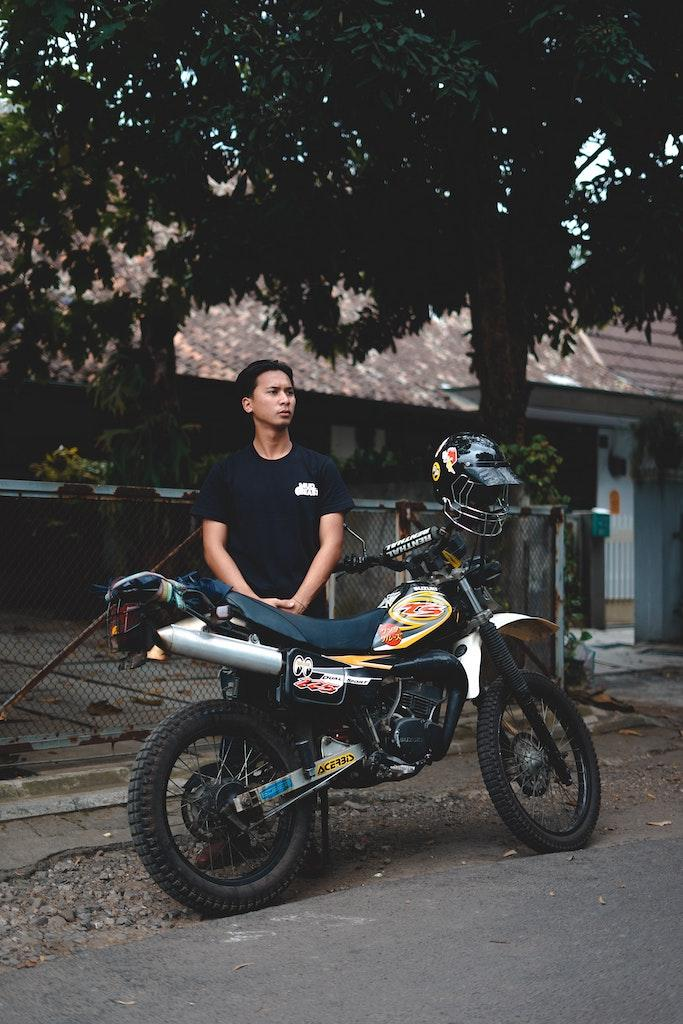helmet: (431, 431, 524, 538)
nohelmet: (234, 358, 297, 440)
